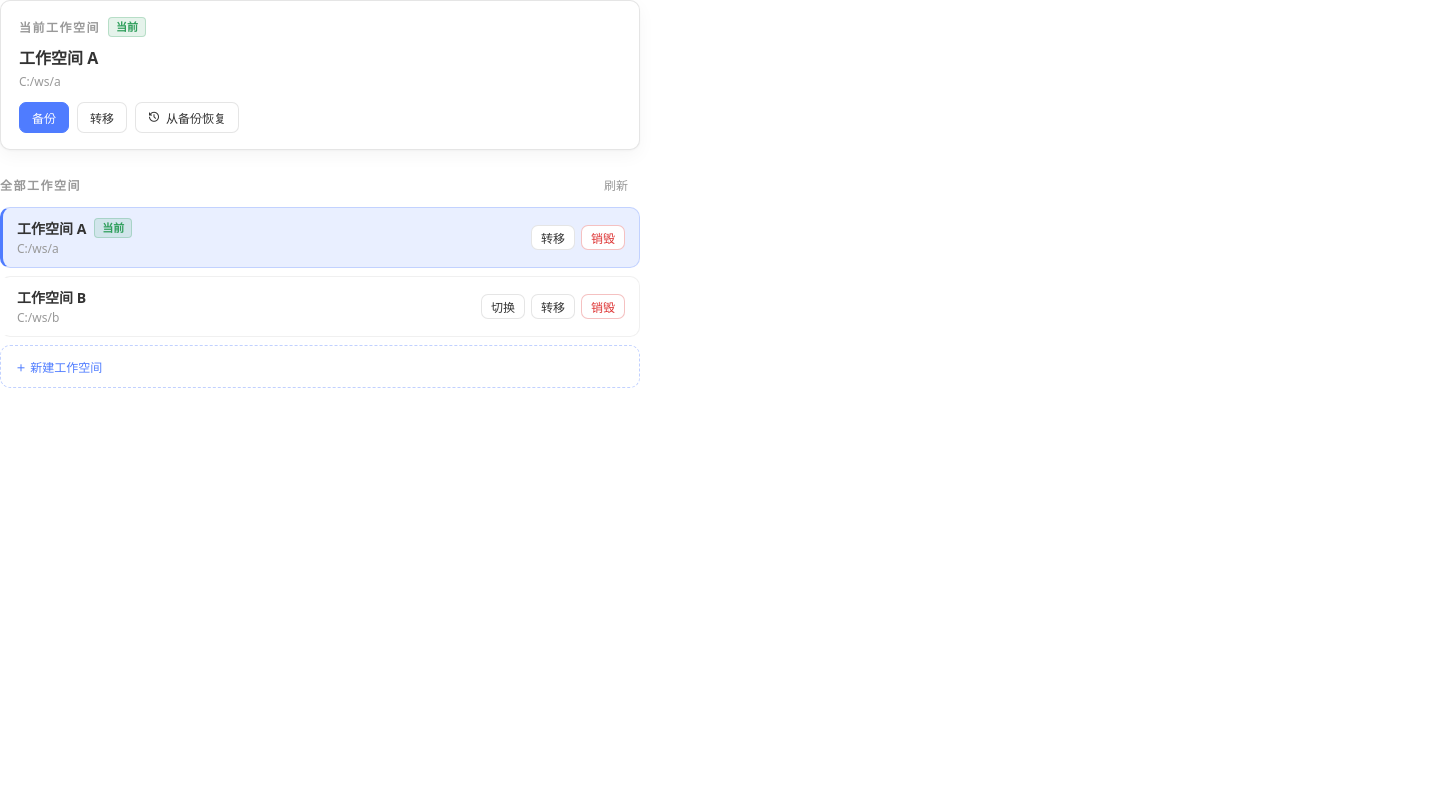
Test: WorkspaceManager › 销毁失败时显示错误 toast
The image size is (1440, 810).
Click the button "销毁" in the row of "工作空间 B" at point(603, 306), box [581, 294, 625, 319]
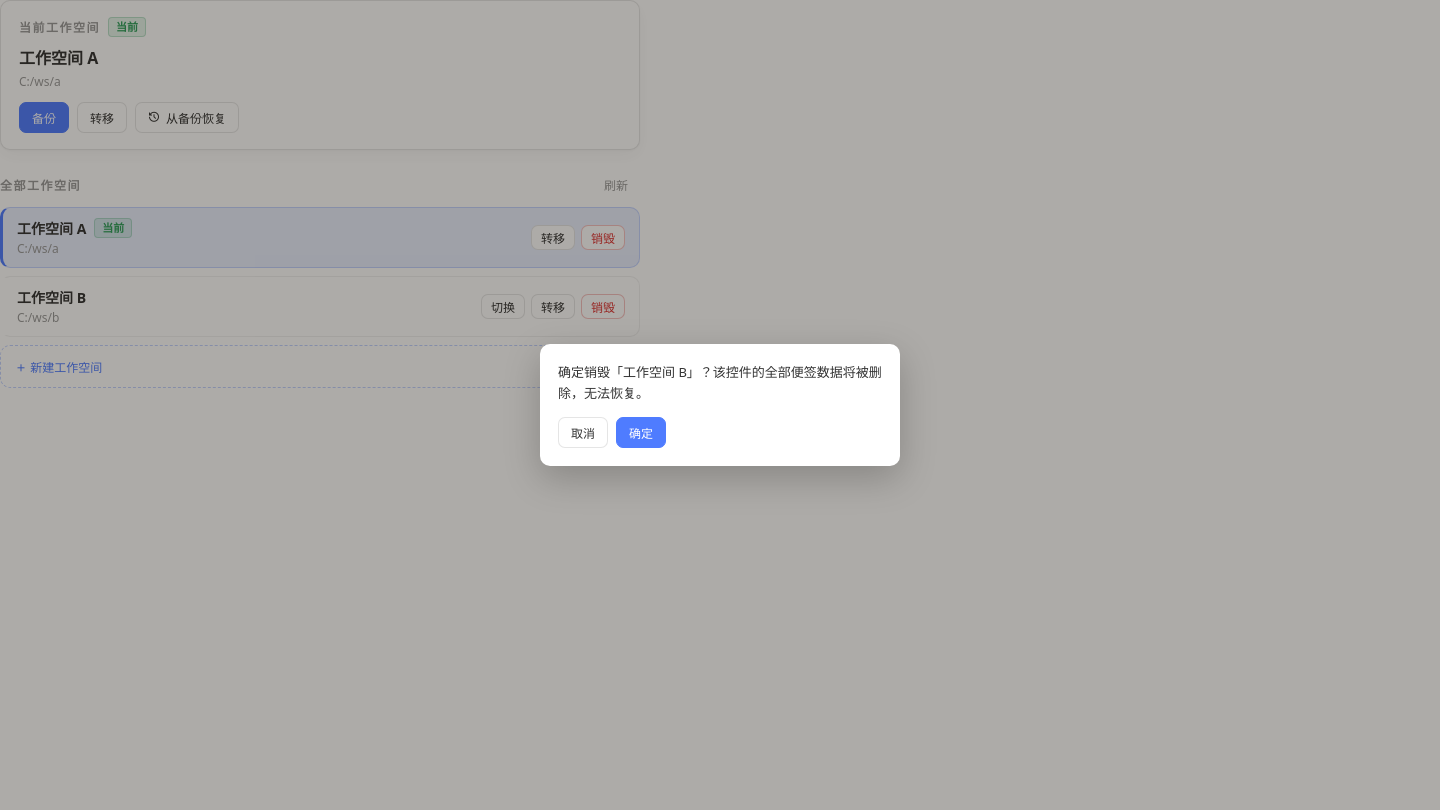
Click the button "确定" at point(641, 433), box [616, 417, 666, 448]
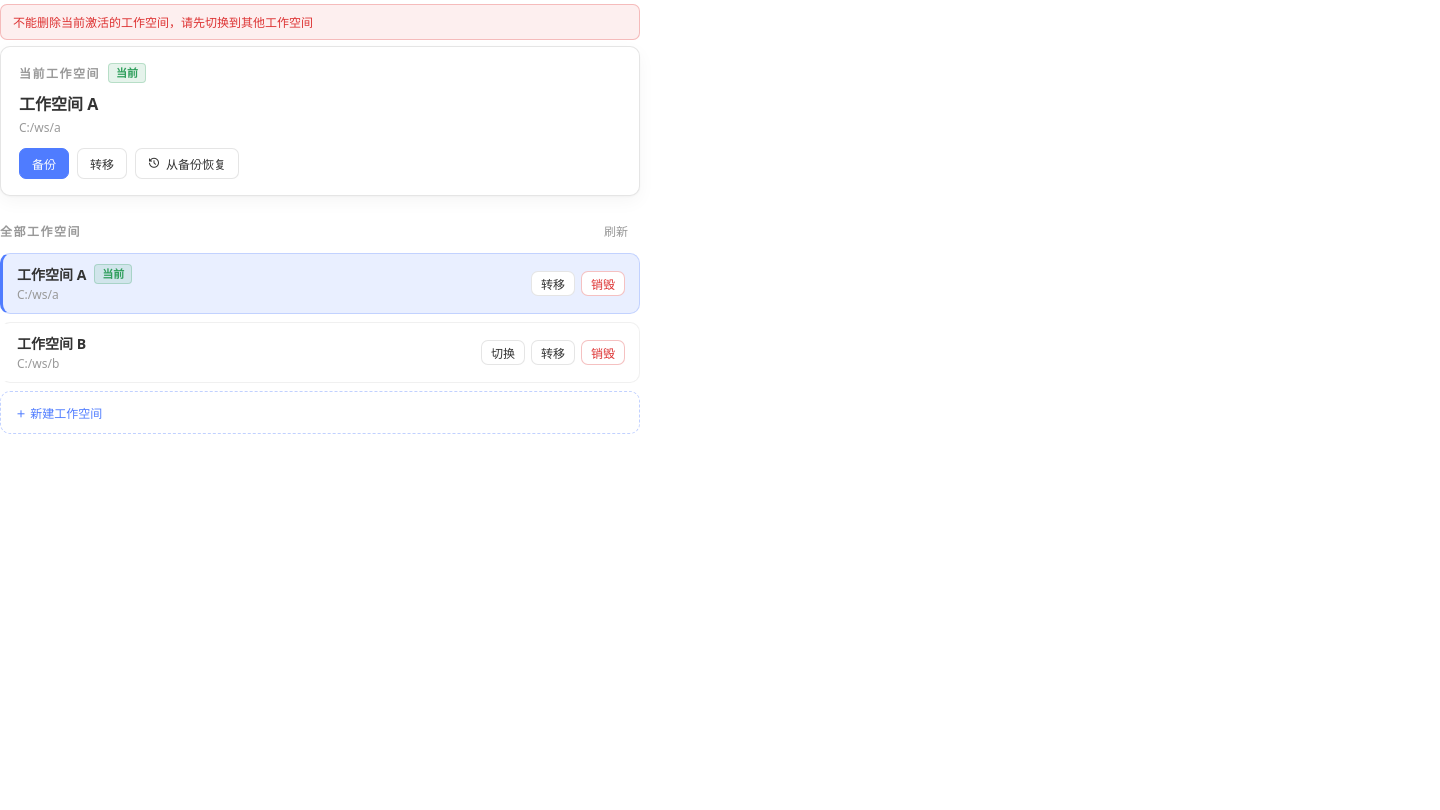
Expected: the number of elements with class "ws-row" is 2, [0, 253, 640, 314]; [0, 322, 640, 383]
Expected: the text with class "error" shows "不能删除当前激活的工作空间", [13, 14, 313, 31]
